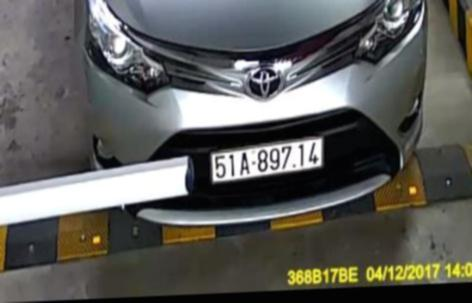License_Plate: (206, 137, 330, 185)
